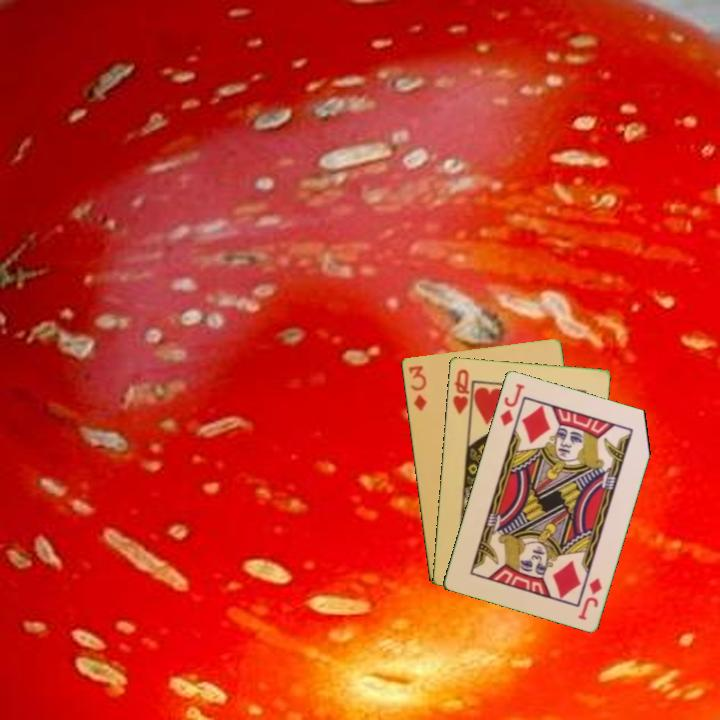3d: (405, 362, 429, 413)
Jd: (496, 379, 527, 429), (574, 574, 605, 623)
Qh: (449, 365, 472, 417)
